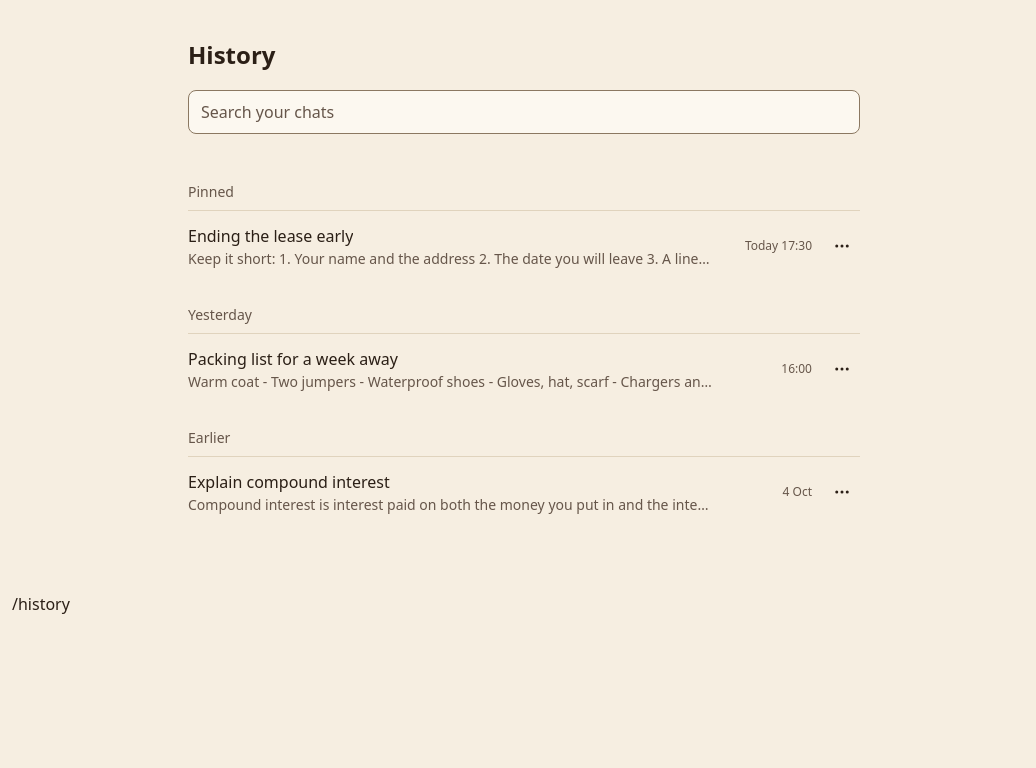
Test case: History row actions › says what happened when the engine refuses
This screenshot has width=1036, height=768.
Step 1. Click the button named "More for Packing list for a week away" → {"x": 842, "y": 369}, box [824, 351, 860, 387]
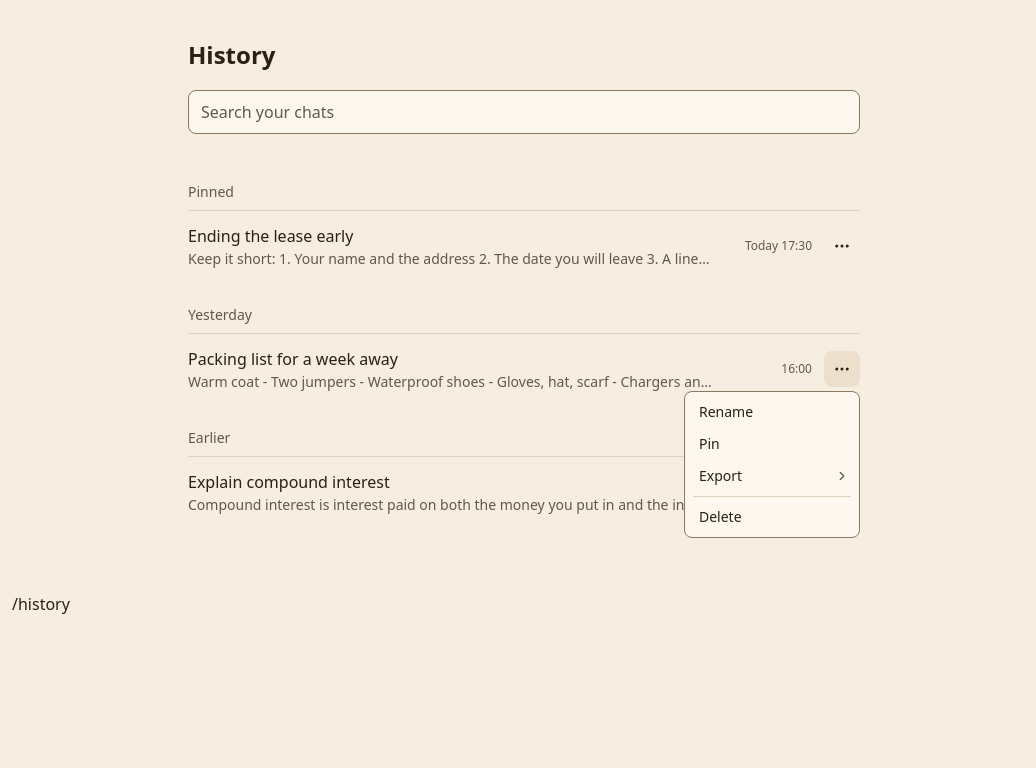
Step 2. Click the menu item "Pin" → {"x": 709, "y": 444}, box [699, 434, 720, 453]
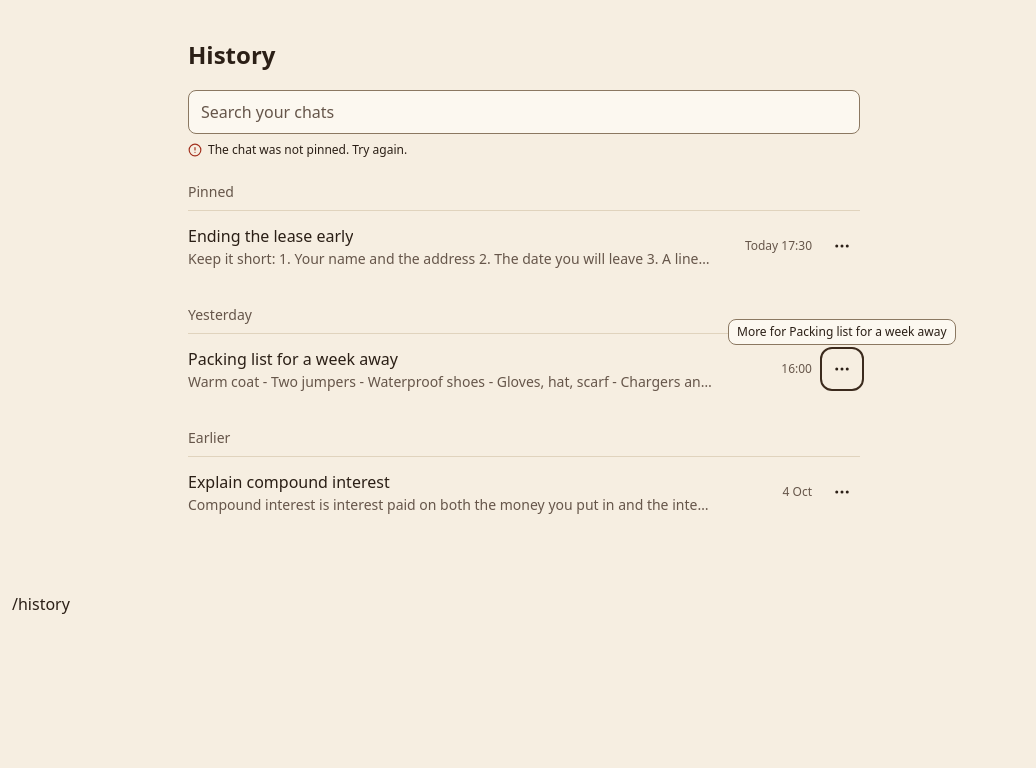
Now the element showing "The chat was not pinned. Try again." is shown, box [188, 141, 407, 158]
